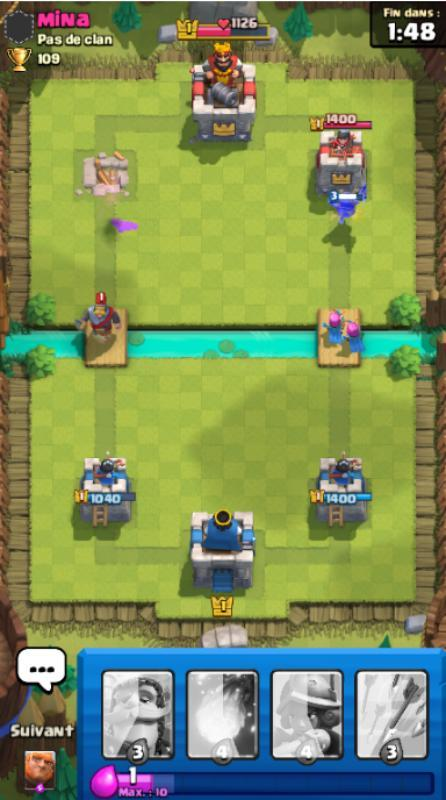enemy_knight: (72, 289, 124, 337)
player_archers: (320, 306, 346, 346), (342, 314, 367, 355)
player_mini_pekka: (321, 179, 371, 226)
